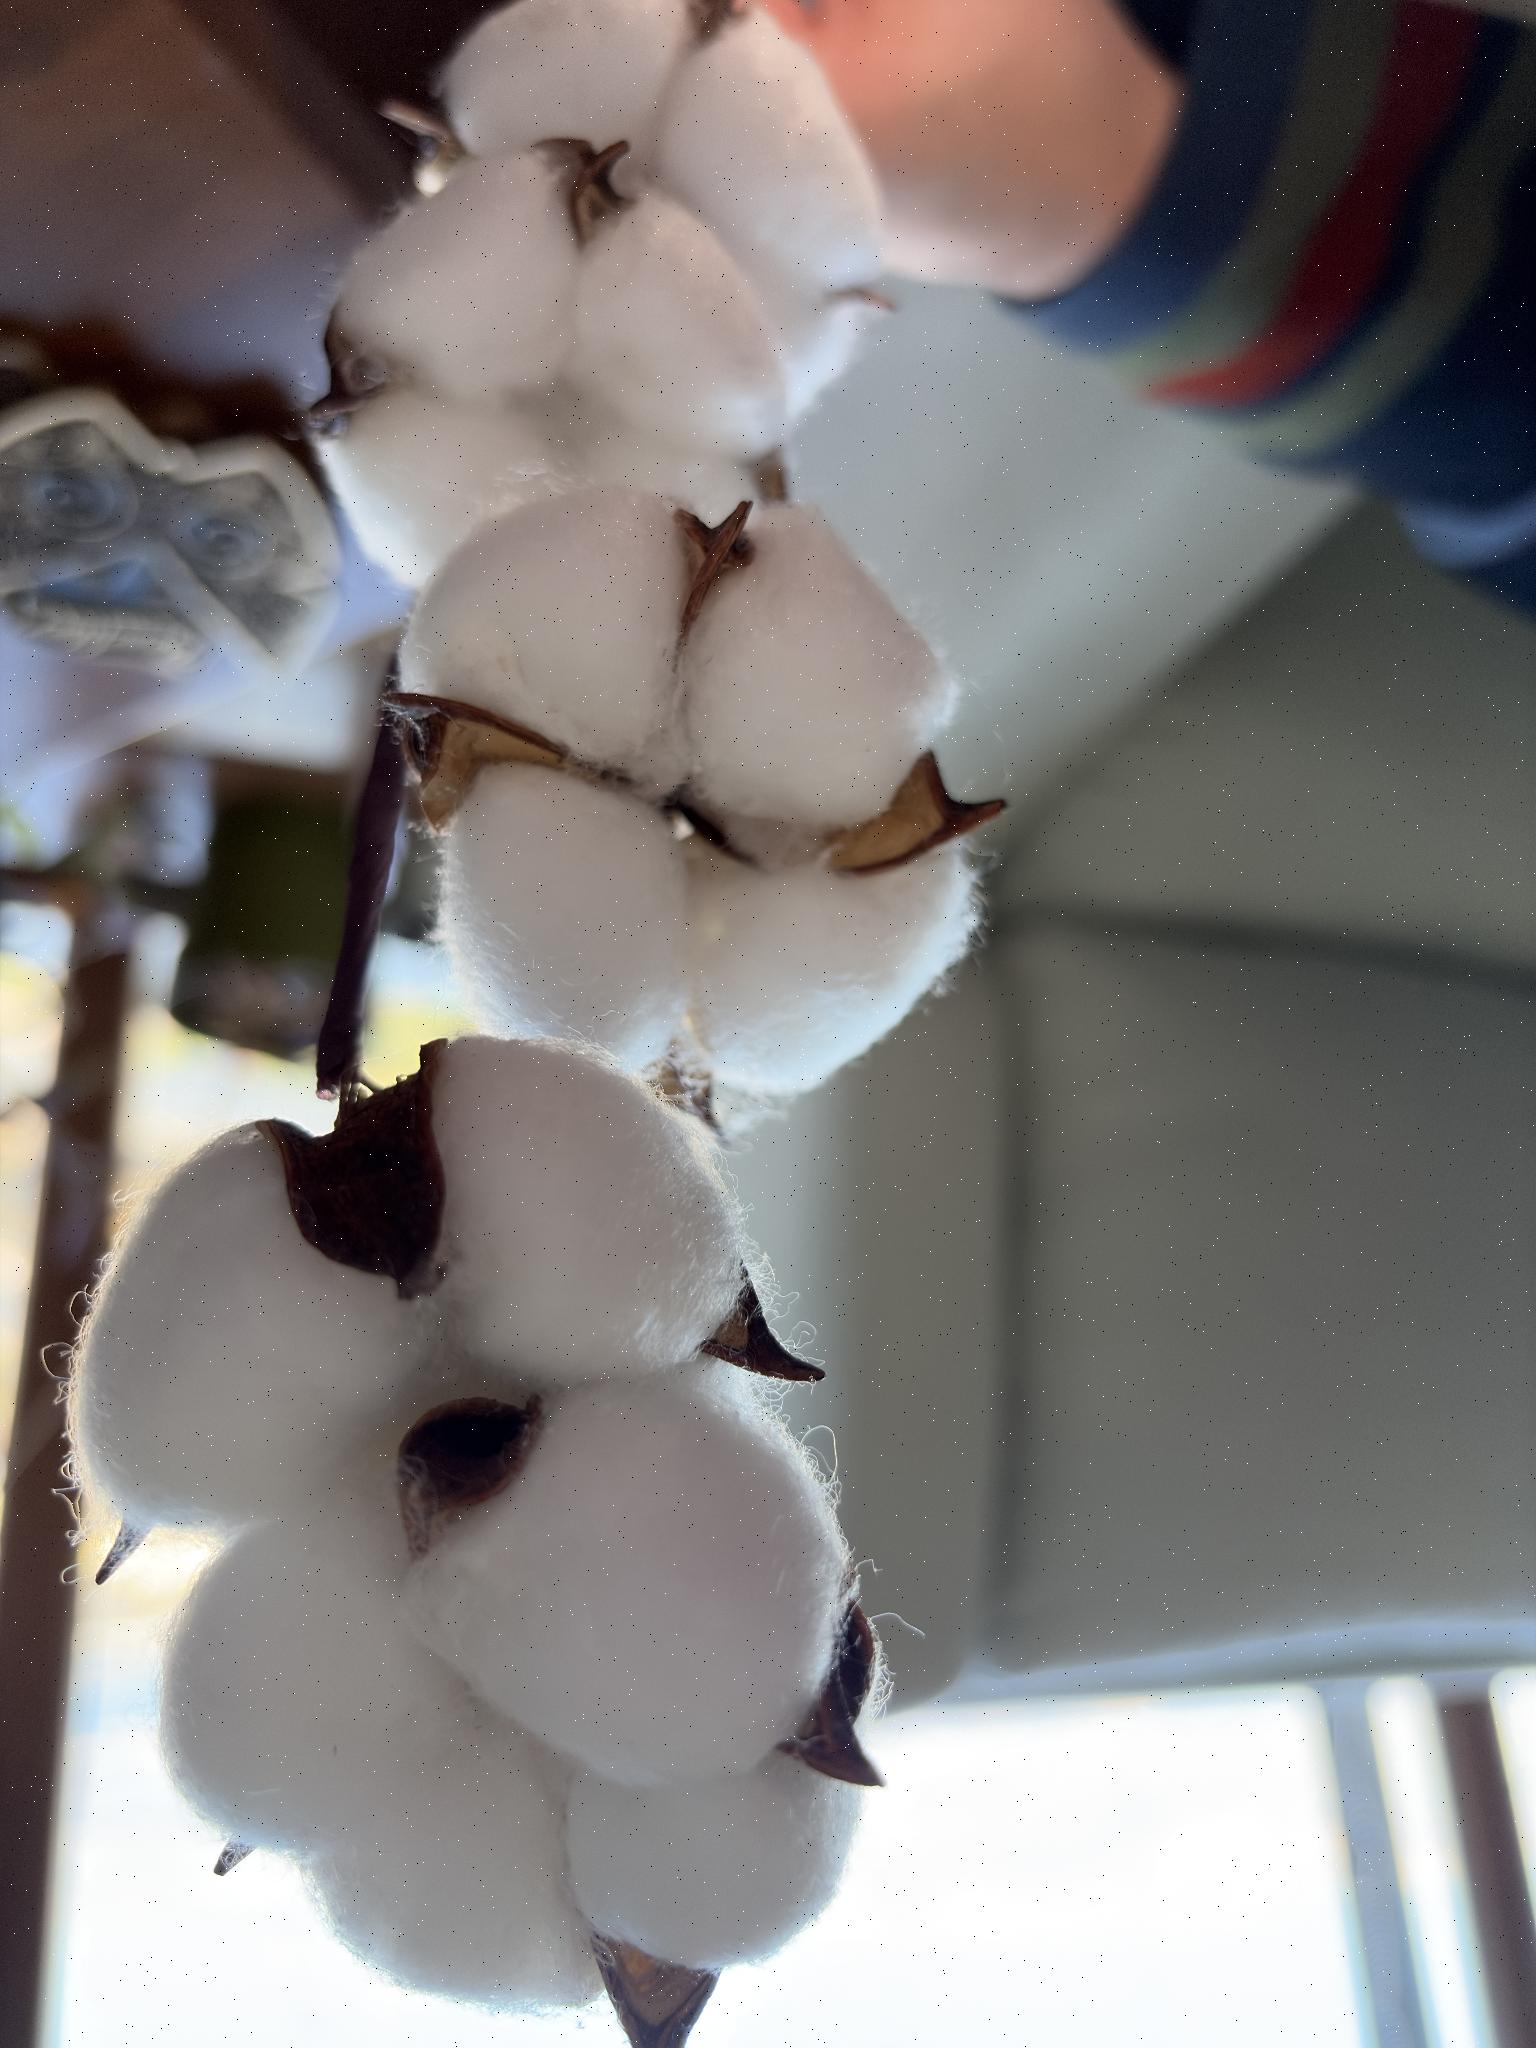cotton_boll: (405, 1374, 852, 1785), (74, 1129, 421, 1530), (434, 1037, 745, 1385), (161, 1503, 457, 1858), (652, 13, 883, 416), (307, 1700, 599, 2013), (681, 506, 958, 830), (402, 485, 689, 795), (684, 840, 979, 1097), (440, 766, 687, 1071), (568, 1751, 865, 1969), (337, 155, 579, 402), (566, 194, 787, 458), (319, 387, 565, 589), (444, 0, 689, 156), (566, 405, 757, 524)
cotton_boll-cluster: (58, 1022, 878, 2027), (376, 482, 1005, 1113), (292, 129, 803, 619), (407, 0, 883, 452)
